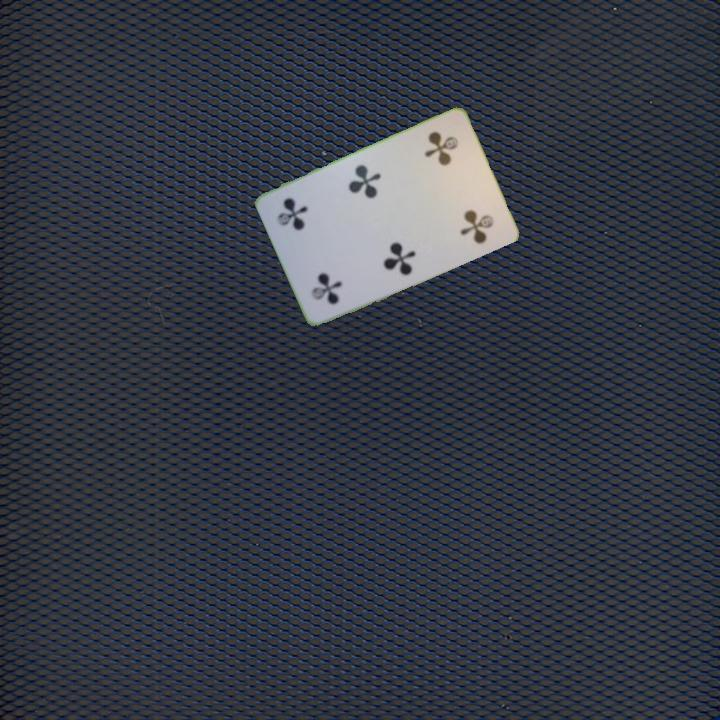c_6.png: (290, 235, 368, 318), (405, 117, 483, 200)
